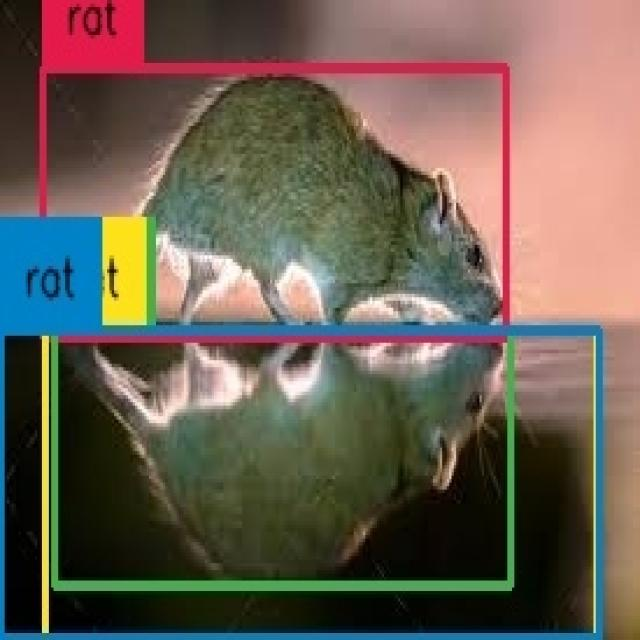rat: (1, 328, 599, 640), (47, 332, 596, 640), (43, 66, 506, 340), (53, 328, 510, 588)
